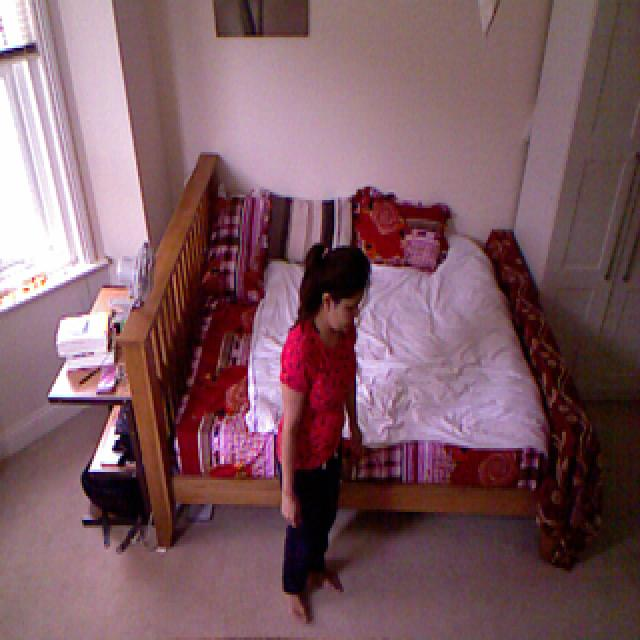standing: (279, 234, 367, 628)
